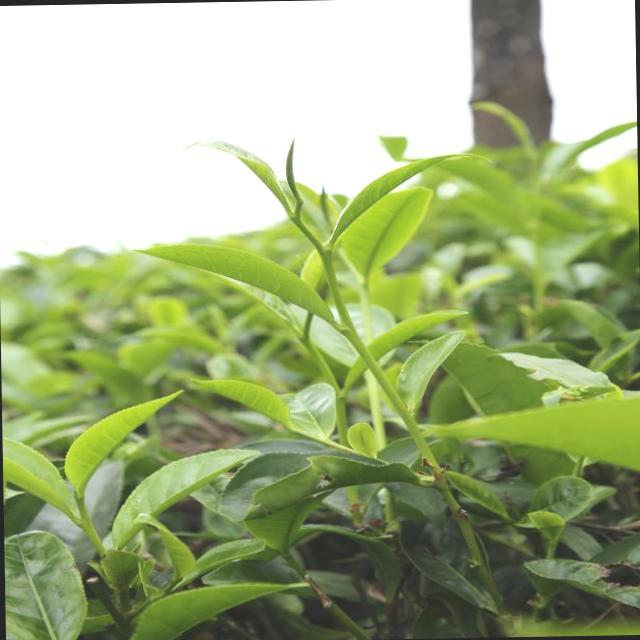Stem: (320, 245, 332, 261), (82, 518, 91, 529), (300, 332, 309, 343)
